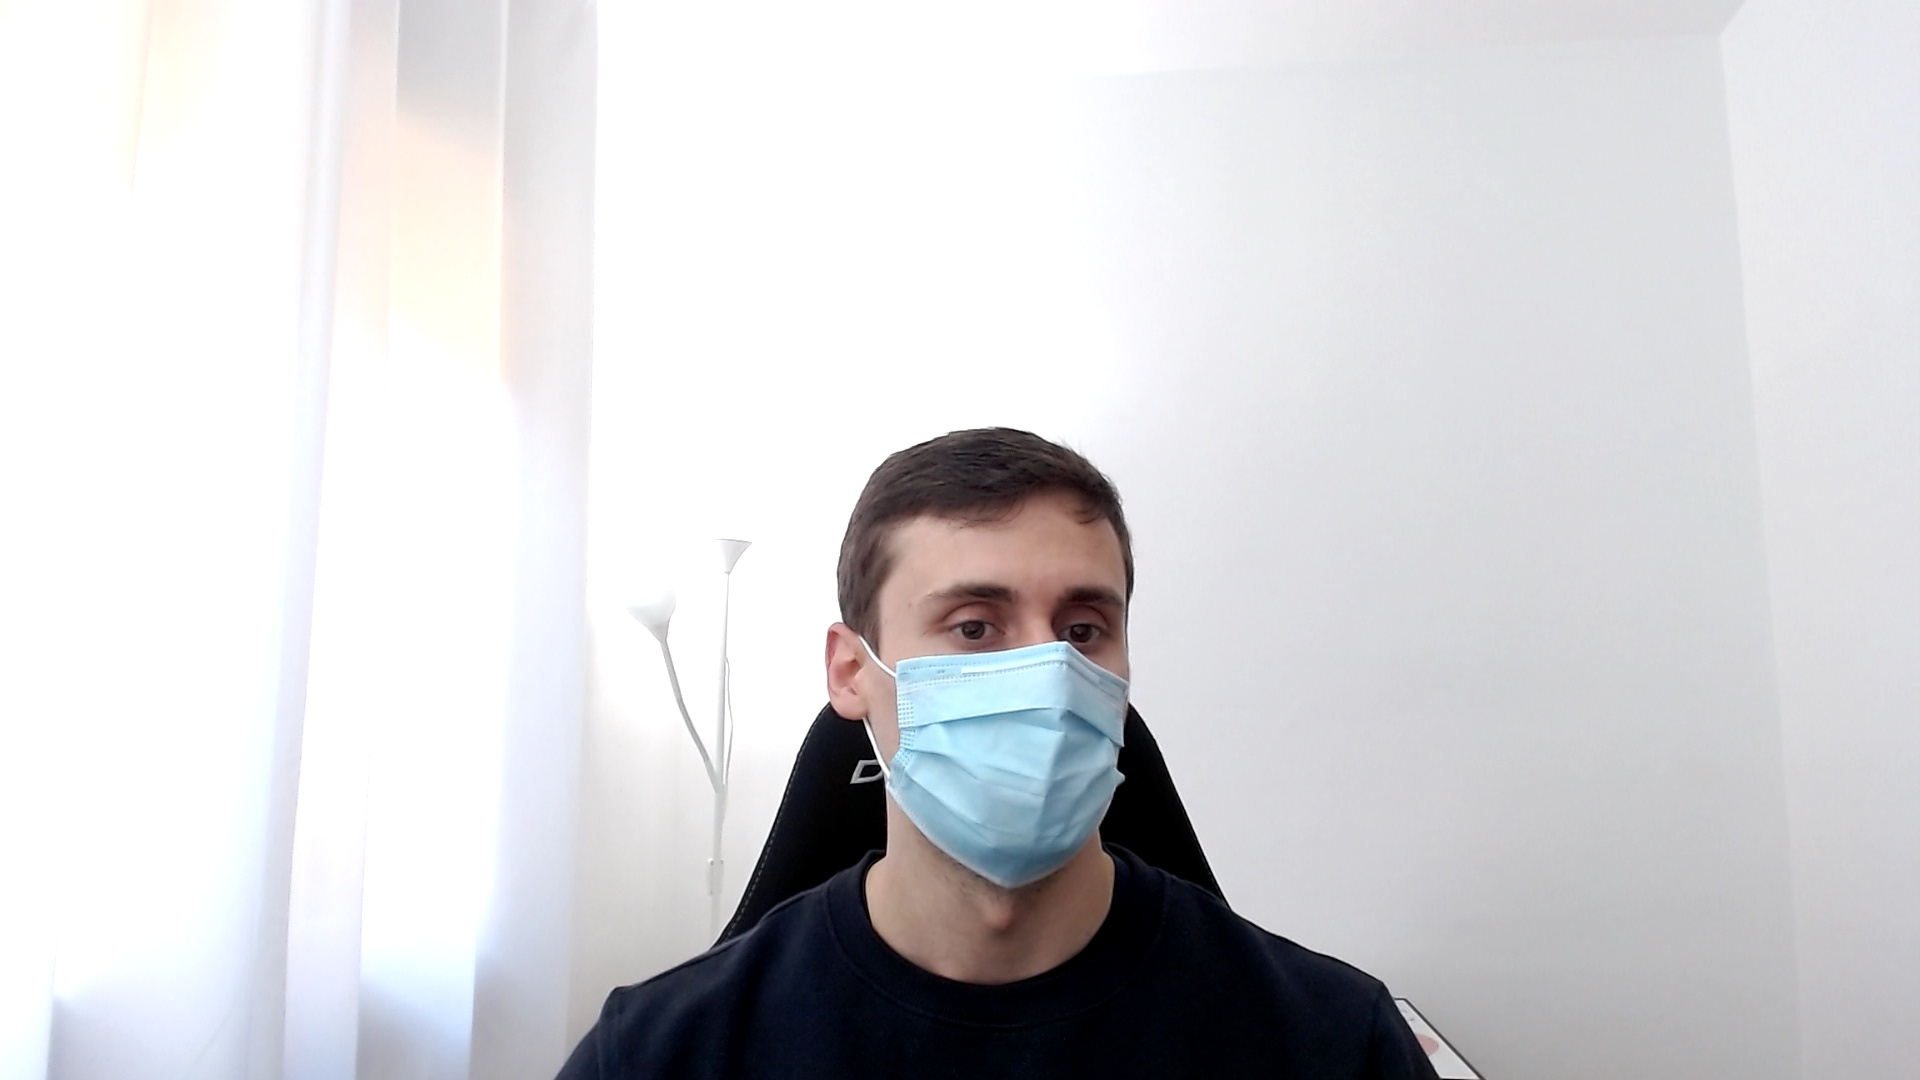Mask: (829, 429, 1135, 891)
